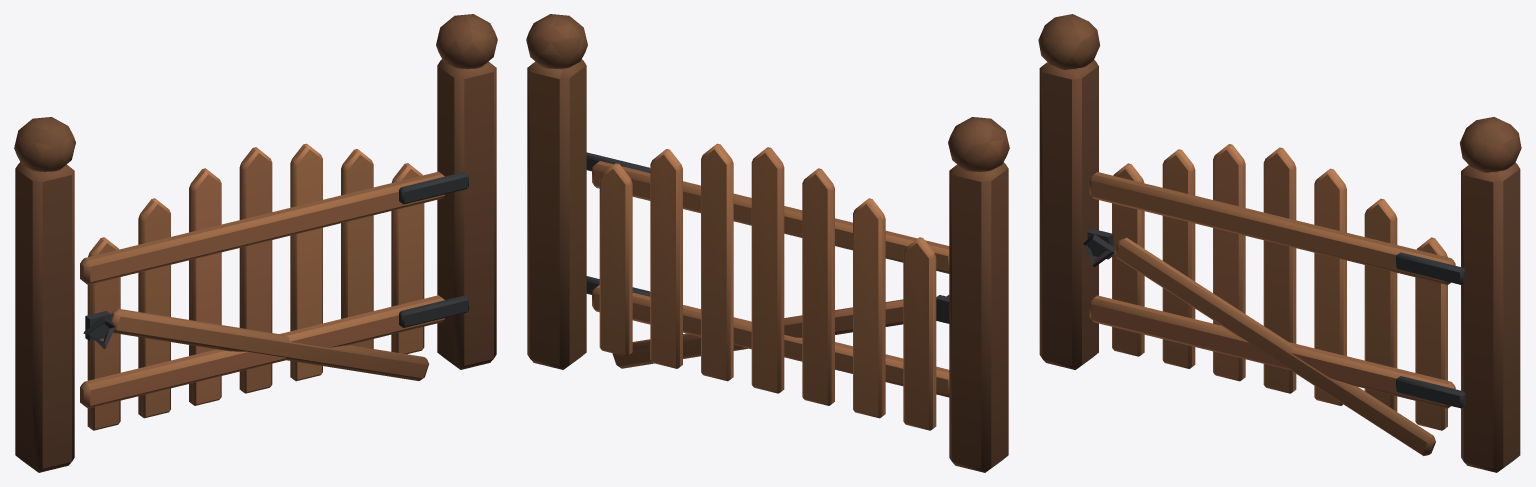
File: fence-gate.glb
3 views of the same model, side by side, from view 1: azimuth 30°, elevation 25°; view 2: azimuth 150°, elevation 25°; view 3: azimuth 330°, elevation 25° (orthographic).
Parts seen in each view (by area): view 1: fence-gate; view 2: fence-gate; view 3: fence-gate.
Part boxes in pixels (x1,y1,x2,y2): fence-gate: [14, 14, 497, 472]; fence-gate: [526, 14, 1009, 472]; fence-gate: [1038, 14, 1521, 472].
Size of the model in its own units: 1.12 by 0.7785 by 0.1429.
